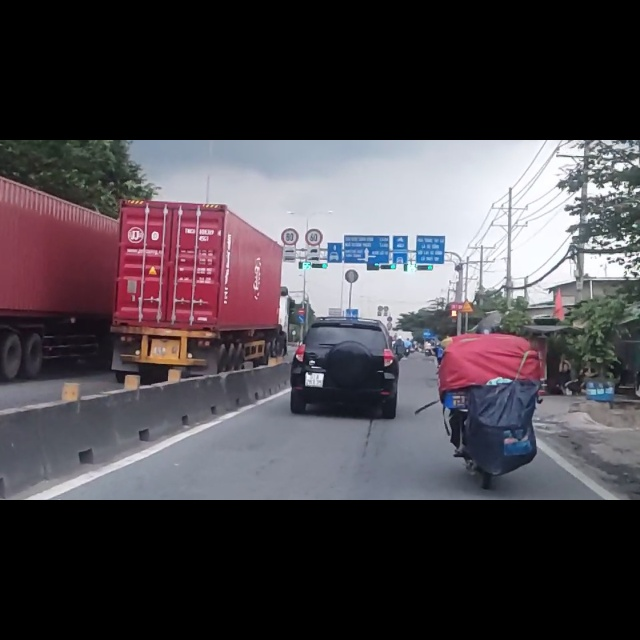bien_cam: (305, 156, 323, 190), (281, 156, 299, 186), (460, 283, 474, 307), (297, 297, 305, 311), (297, 312, 305, 325)
